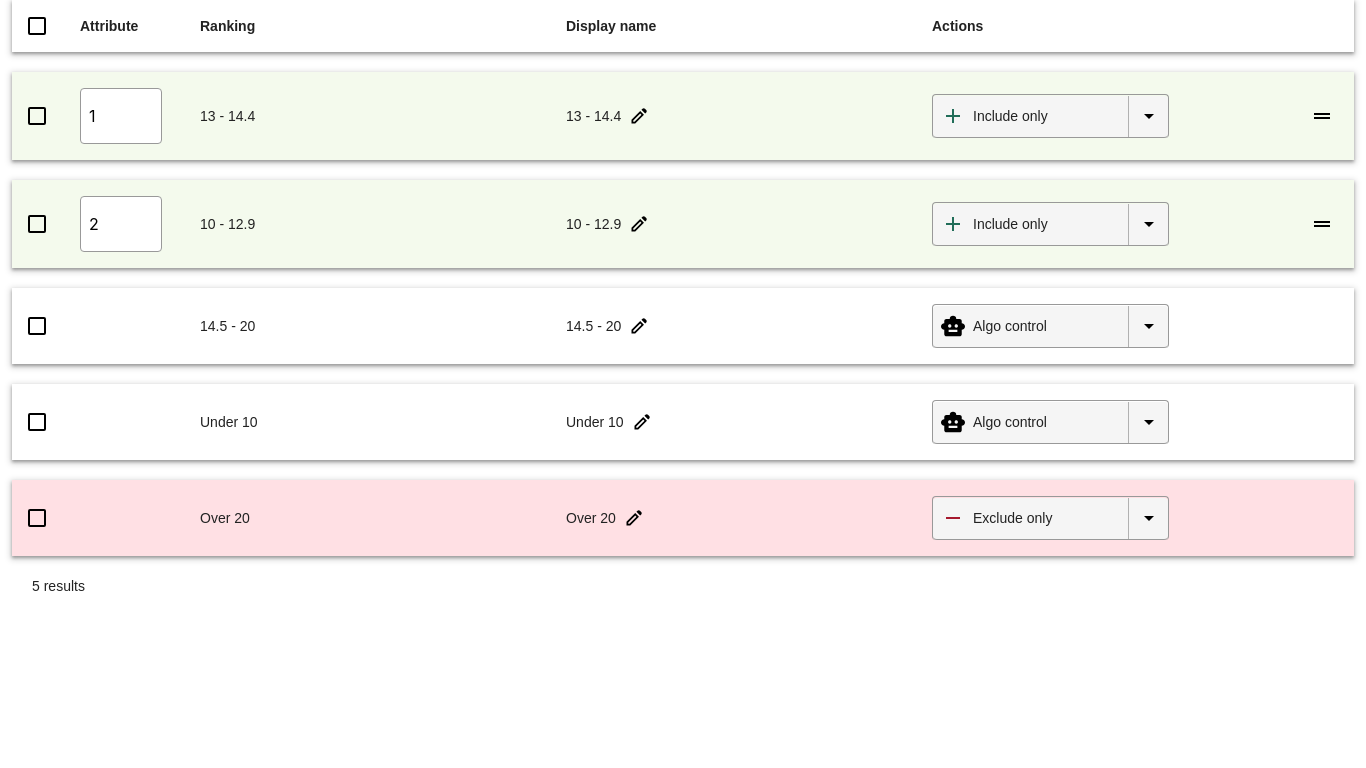
Scenario: FacetAttributesList › re-ordering by number › should keep the existing order if the user deletes, then clicks outside without inputting a new order
Clear the number field named "Order for 10 - 12.9" at (121, 224), box [80, 196, 162, 252]
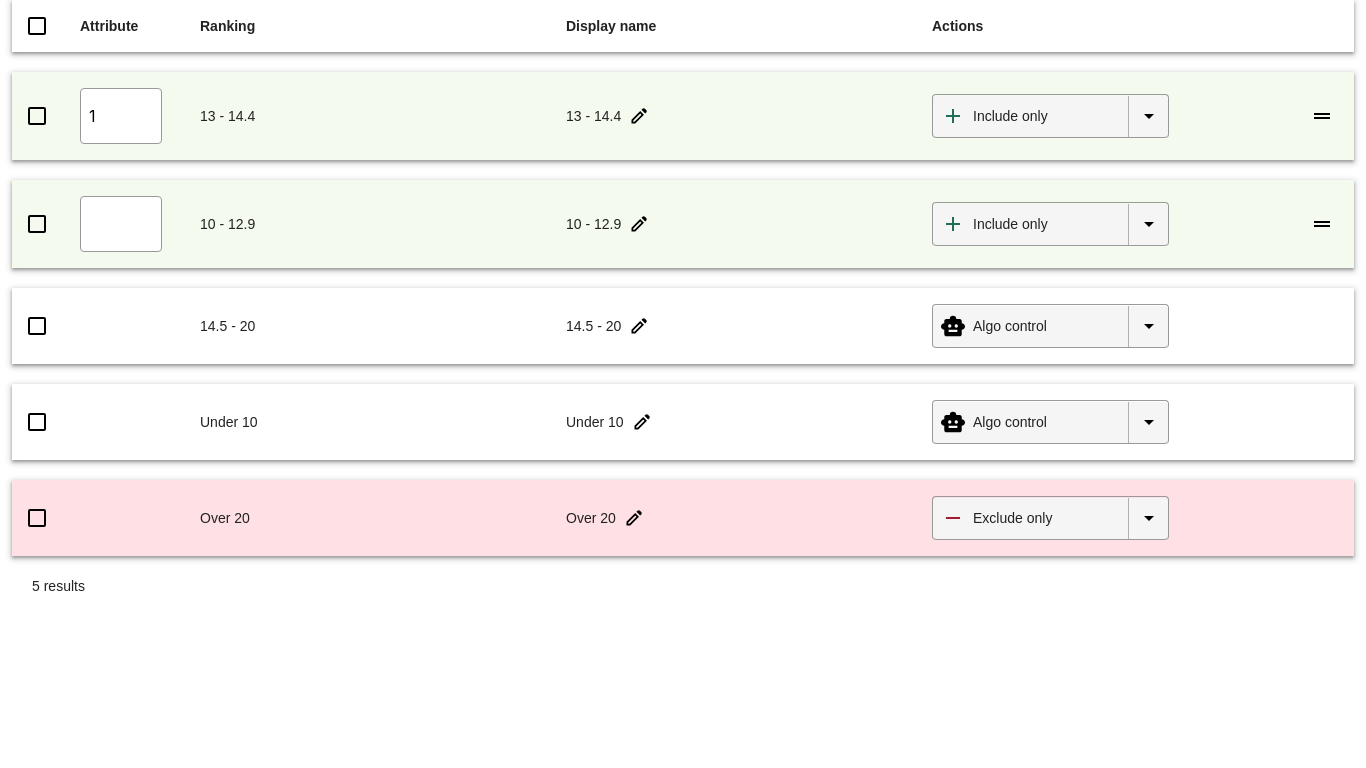
Clear the number field named "Order for 10 - 12.9" at (121, 224), box [80, 196, 162, 252]
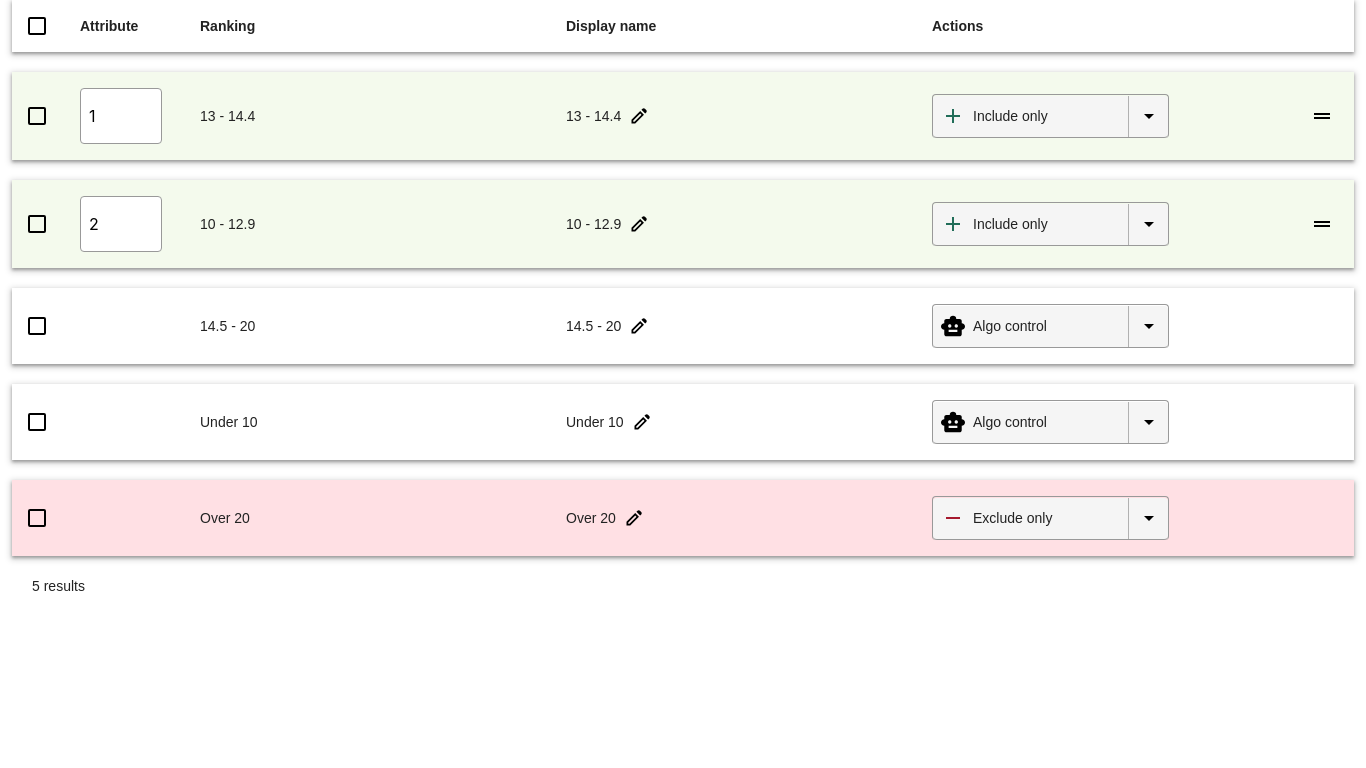
Expected: the number field named "Order for 10 - 12.9" holds "2", [80, 196, 162, 252]
